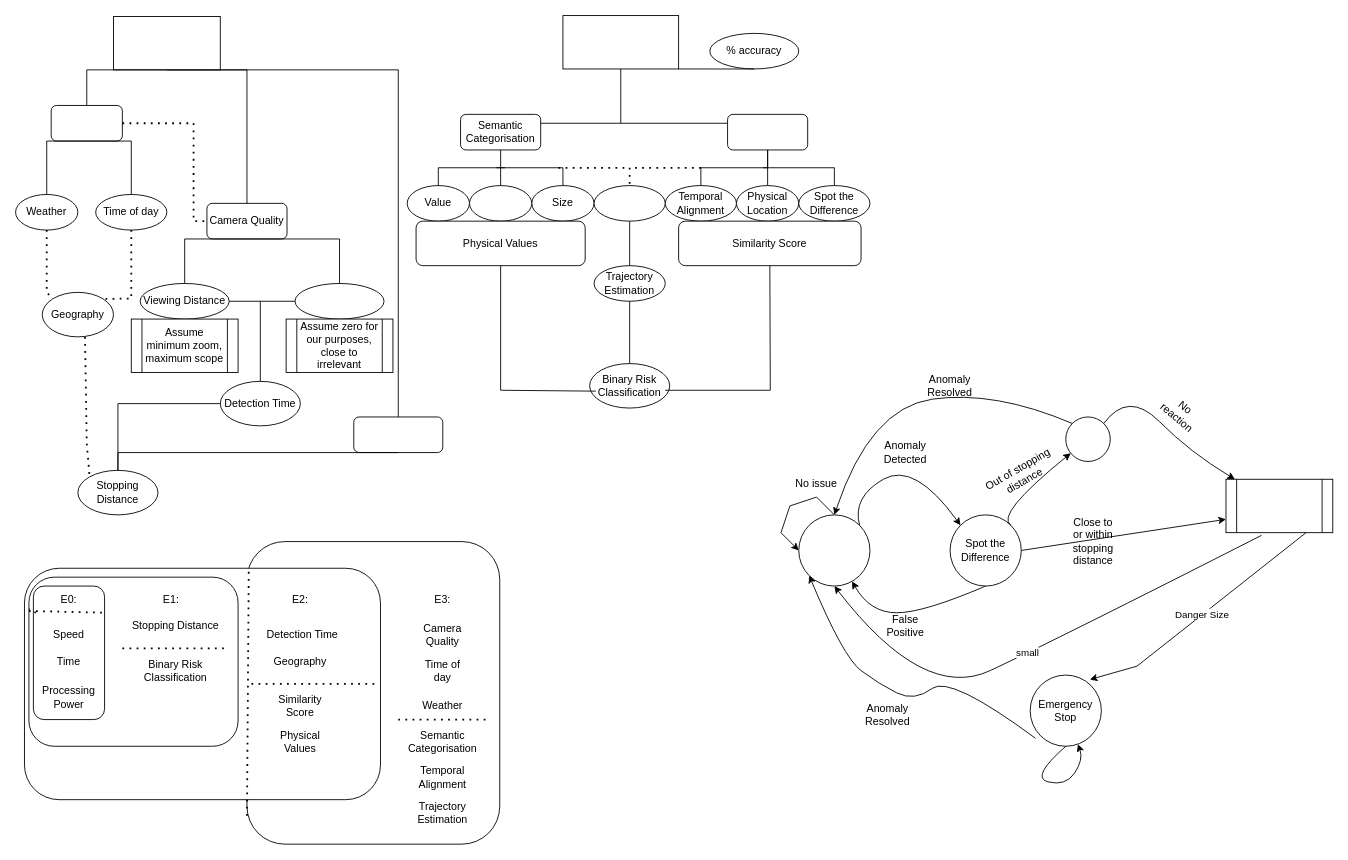
The diagram is 1348 pixels wide and 860 high, and some of its shapes have lost their labels. Here are the shapes that lost their labels. From the top down, the centre of each, then its label:
(166,43): Technical Assurance Points (physical)
(620,42): Technical Assurance Points (Digital)
(86,123): Visibility
(767,131): Memory
(500,203): Weight
(629,203): Expected Behaviour
(339,301): Reaction Time
(398,434): Railway Characteristics
(1087,438): Honk
(1279,505): Check physical values for danger
(834,550): Typical Scenario
